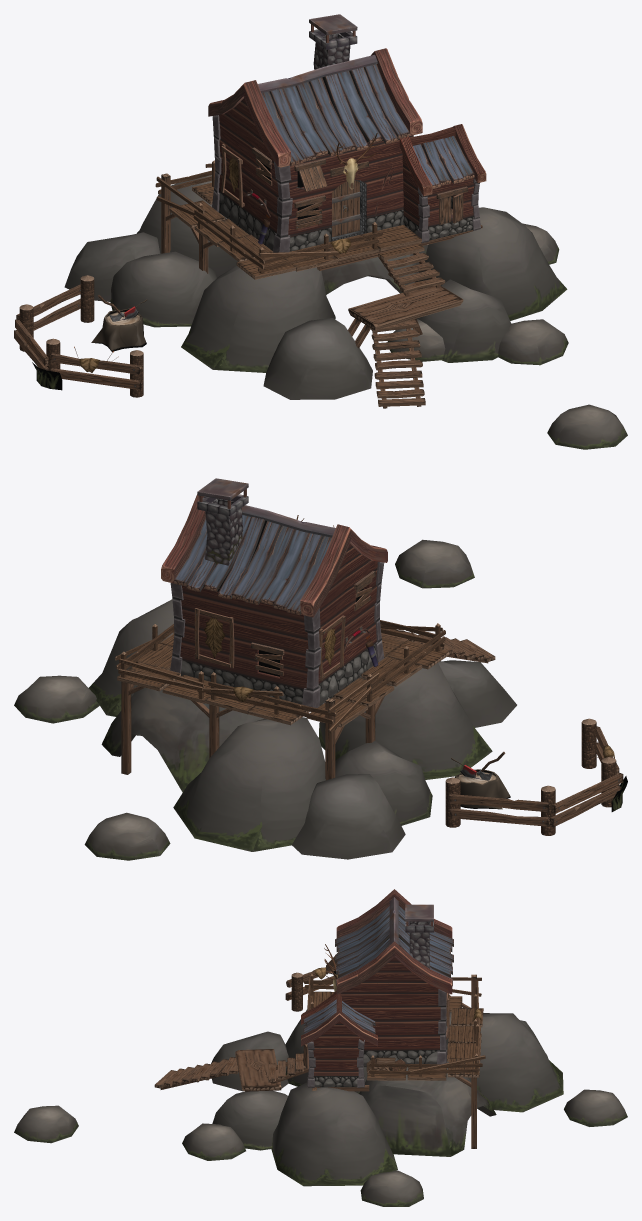
File: Hunters_house.fbx
3 views of the same model, one above another, from view 1: azimuth 30°, elevation 25°; view 2: azimuth 150°, elevation 25°; view 3: azimuth 270°, elevation 25° (orthographic). The views are drawn at different scales.
Parts seen in each view (by area): view 1: Rocks, House, Roof1, Object002, Balkony, Extra objects, SRoof1, m_Log, pillars, Hide; view 2: Rocks, House, Roof1, Balkony, Object002, pillars, Extra objects, m_Log, Hide; view 3: Rocks, House, Roof1, Balkony, Object002, SRoof1, pillars, Extra objects.
Boxes of the visible parts, left/top/right/bottom form: Rocks: left=64, top=175, right=627, bottom=449; House: left=212, top=98, right=480, bottom=252; Roof1: left=208, top=14, right=422, bottom=167; Object002: left=14, top=209, right=482, bottom=408; Balkony: left=155, top=160, right=421, bottom=279; Extra objects: left=221, top=132, right=467, bottom=229; SRoof1: left=399, top=124, right=486, bottom=196; m_Log: left=91, top=299, right=146, bottom=351; pillars: left=161, top=173, right=213, bottom=273; Hide: left=79, top=157, right=350, bottom=372; Rocks: left=14, top=539, right=516, bottom=860; House: left=170, top=543, right=384, bottom=711; Roof1: left=161, top=478, right=387, bottom=617; Balkony: left=115, top=620, right=449, bottom=733; Object002: left=173, top=629, right=623, bottom=835; pillars: left=121, top=681, right=384, bottom=780; Extra objects: left=194, top=515, right=375, bottom=680; m_Log: left=451, top=757, right=510, bottom=809; Hide: left=204, top=617, right=614, bottom=758; Rocks: left=14, top=1009, right=627, bottom=1206; House: left=307, top=957, right=450, bottom=1087; Roof1: left=335, top=889, right=453, bottom=994; Balkony: left=304, top=974, right=485, bottom=1080; Object002: left=154, top=964, right=450, bottom=1091; SRoof1: left=301, top=991, right=377, bottom=1046; pillars: left=455, top=974, right=476, bottom=1148; Extra objects: left=303, top=944, right=449, bottom=1068.
Size of the model in its own units: 864 by 398 by 1032.
